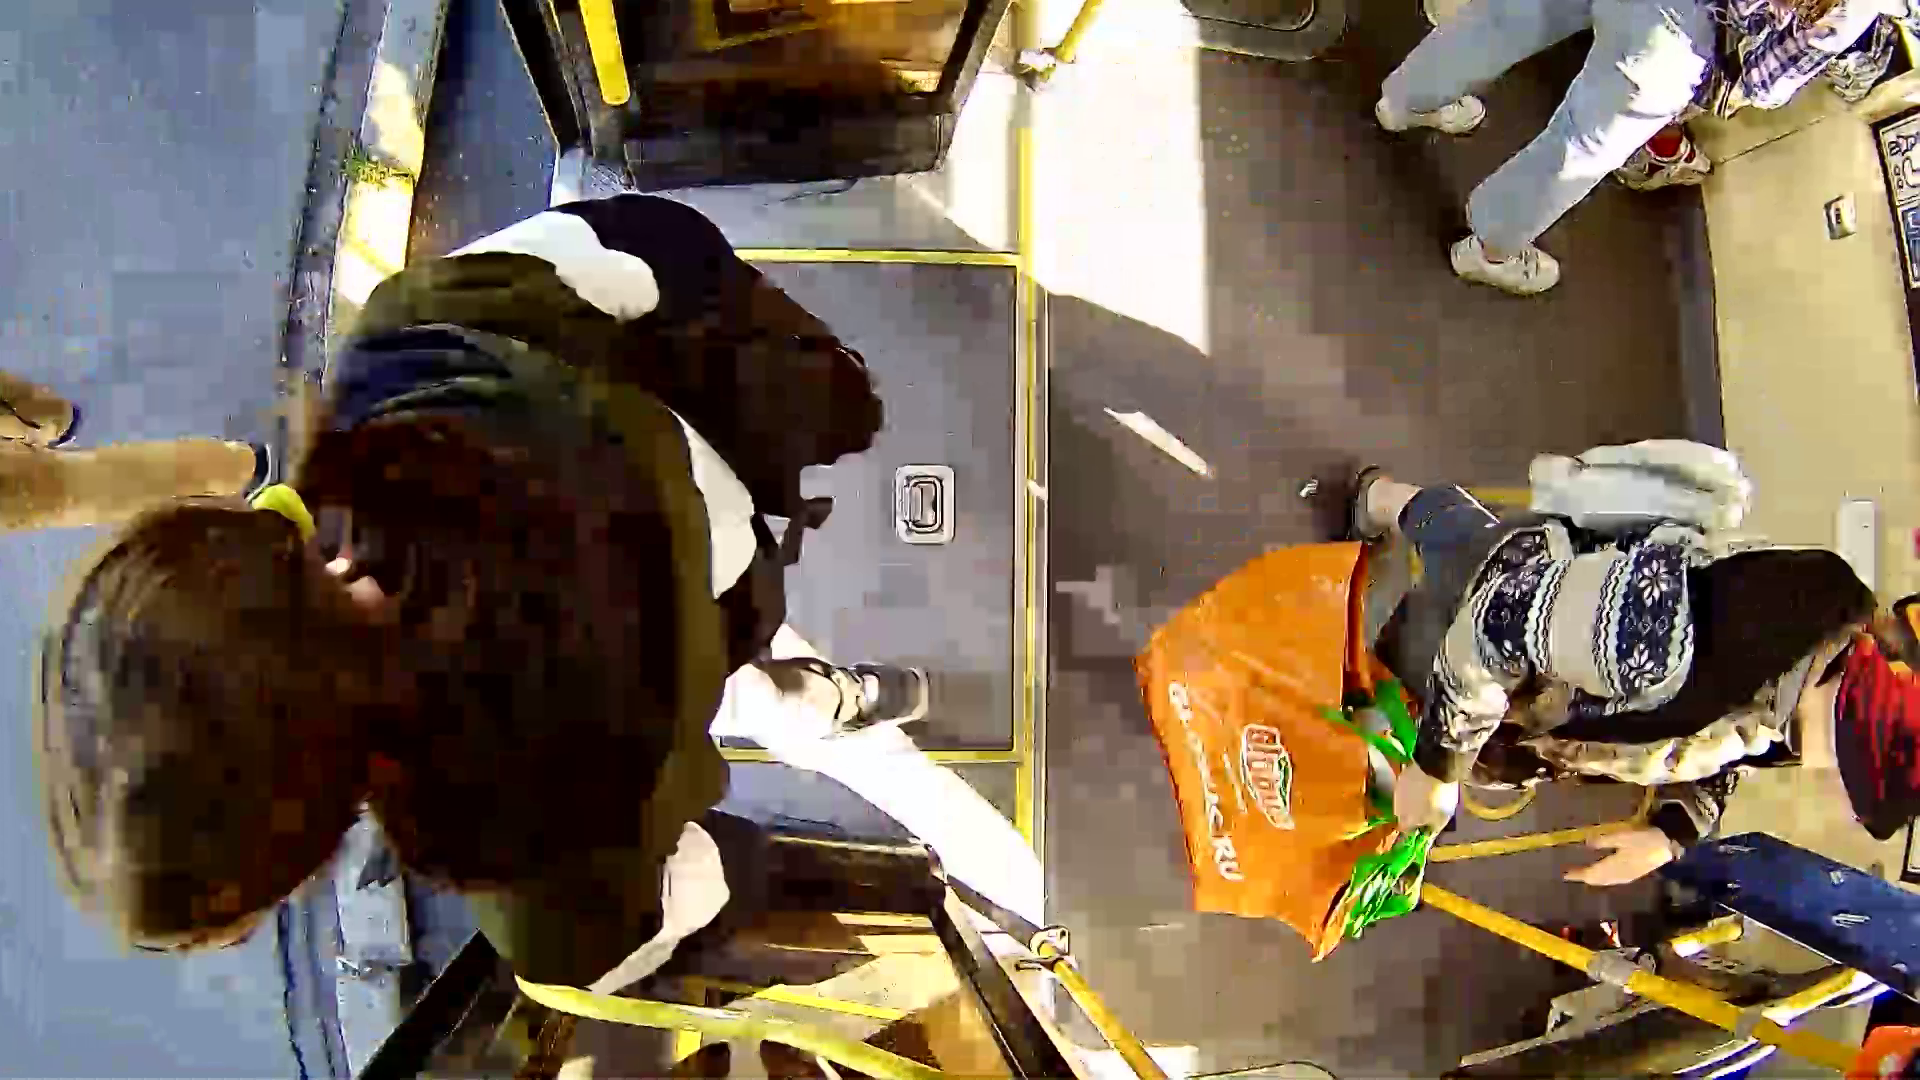person: (80, 224, 1002, 987)
